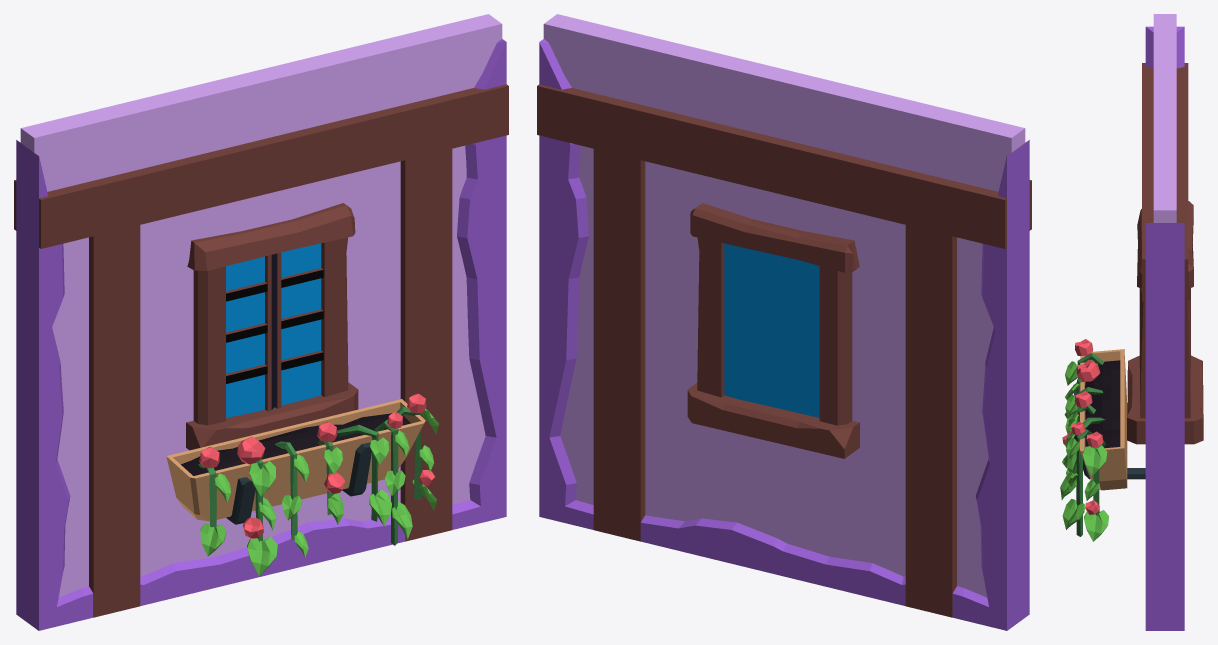
File: Modular Wall 02 MK2 W4.fbx
3 renders of one model, left to right at view 1: azimuth 30°, elevation 25°; view 2: azimuth 150°, elevation 25°; view 3: azimuth 270°, elevation 25°, orthographic. The views are drawn at different scales.
Visible parts, largest first — view 1: Modular Wall 02 MK2 W4; view 2: Modular Wall 02 MK2 W4; view 3: Modular Wall 02 MK2 W4.
Part boxes in pixels (x1,y1,x2,y2): Modular Wall 02 MK2 W4: (14,14,508,630); Modular Wall 02 MK2 W4: (537,14,1031,630); Modular Wall 02 MK2 W4: (1060,14,1203,630).
Size of the model in its own units: 400 by 400 by 124.
